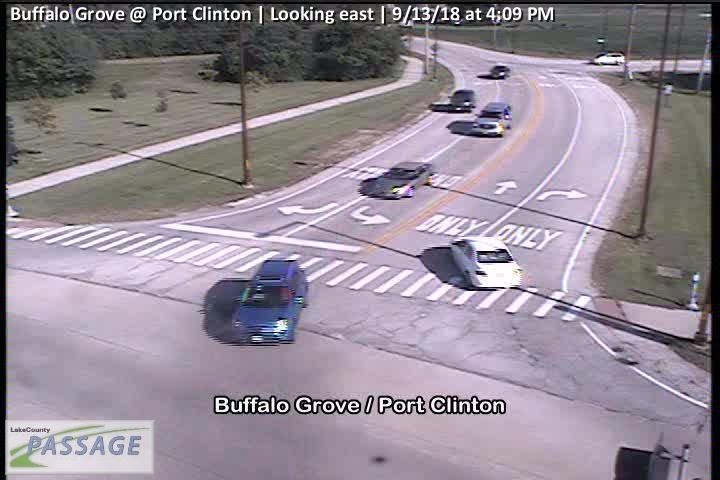Sedan: (235, 258, 309, 343), (450, 235, 524, 289), (367, 161, 433, 198), (472, 102, 513, 137), (447, 89, 474, 111), (593, 52, 624, 65), (489, 66, 510, 79)
